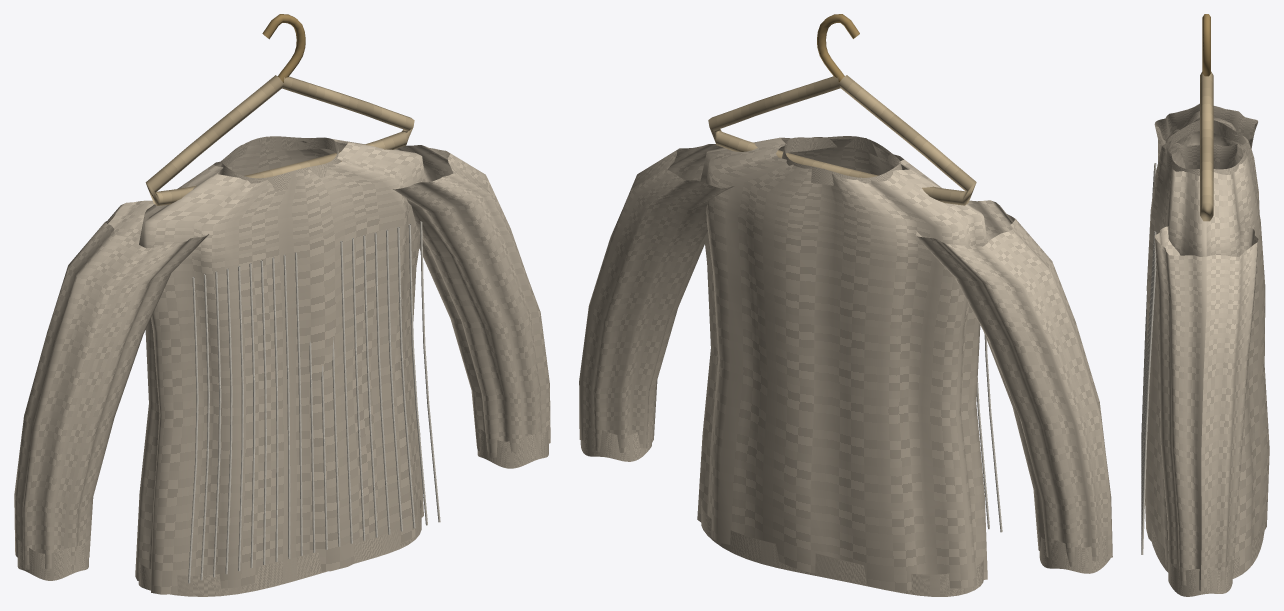
3 renders of one model, left to right at view 1: azimuth 30°, elevation 25°; view 2: azimuth 150°, elevation 25°; view 3: azimuth 270°, elevation 25°, orthographic. The views are drawn at different scales.
Parts seen in each view (by area): view 1: fabric_linen, fabric_cream, ash_grain, aged_brass; view 2: fabric_linen, ash_grain, fabric_cream, aged_brass; view 3: fabric_linen, ash_grain, fabric_cream, aged_brass.
Boxes of the visible parts, x1=… form: fabric_linen: x1=14, y1=136, x2=550, y2=596; fabric_cream: x1=188, y1=221, x2=440, y2=583; ash_grain: x1=145, y1=75, x2=414, y2=205; aged_brass: x1=262, y1=14, x2=305, y2=82; fabric_linen: x1=579, y1=136, x2=1112, y2=596; ash_grain: x1=708, y1=75, x2=976, y2=205; fabric_cream: x1=976, y1=335, x2=1002, y2=532; aged_brass: x1=817, y1=14, x2=859, y2=82; fabric_linen: x1=1143, y1=103, x2=1269, y2=596; ash_grain: x1=1200, y1=71, x2=1213, y2=221; fabric_cream: x1=1141, y1=163, x2=1156, y2=554; aged_brass: x1=1202, y1=14, x2=1210, y2=76.
Size of the model in its own units: 0.9248 by 0.911 by 0.2072.
4 materials, 3 textured.
